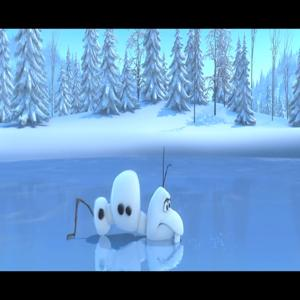olaf: (65, 157, 196, 247)
